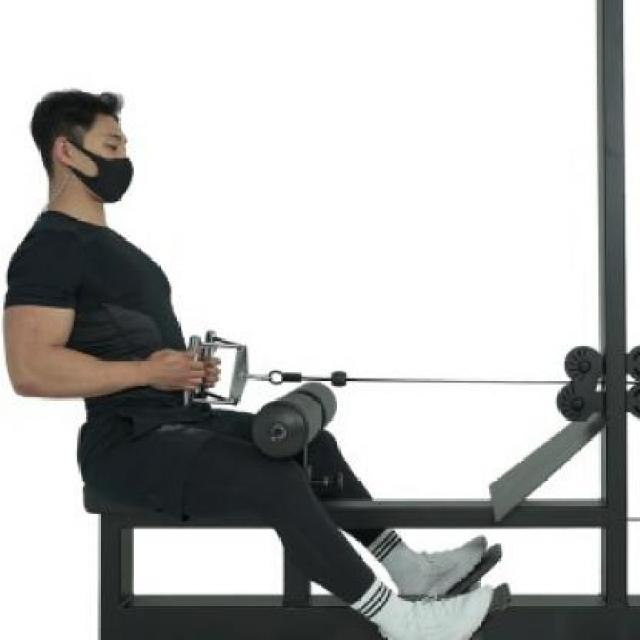Seated Cable Rows: (12, 1, 639, 640)
